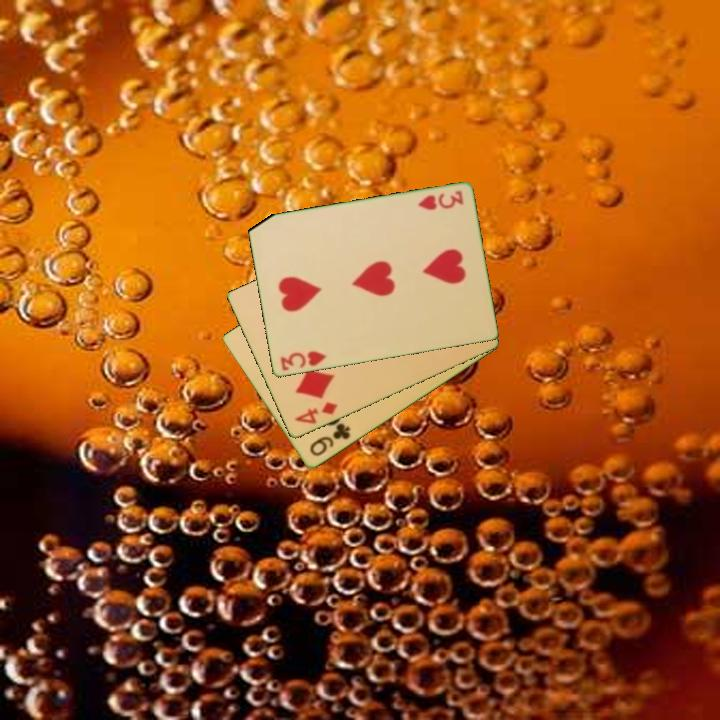3h: (277, 347, 329, 374), (414, 187, 466, 214)
4d: (291, 399, 341, 427)
9c: (306, 420, 353, 460)
